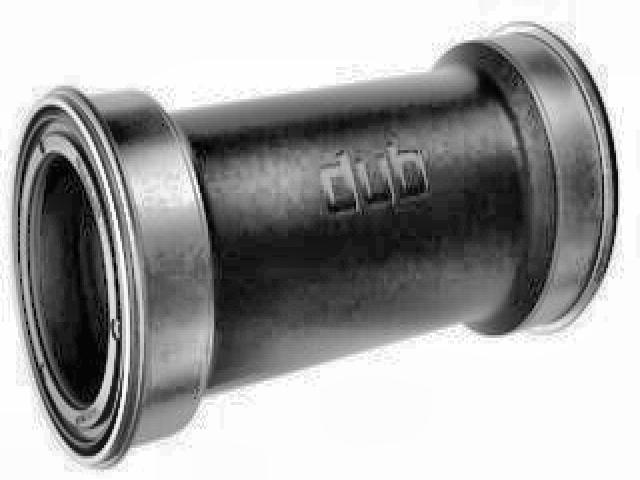bottom_bracket: (10, 16, 620, 473)
